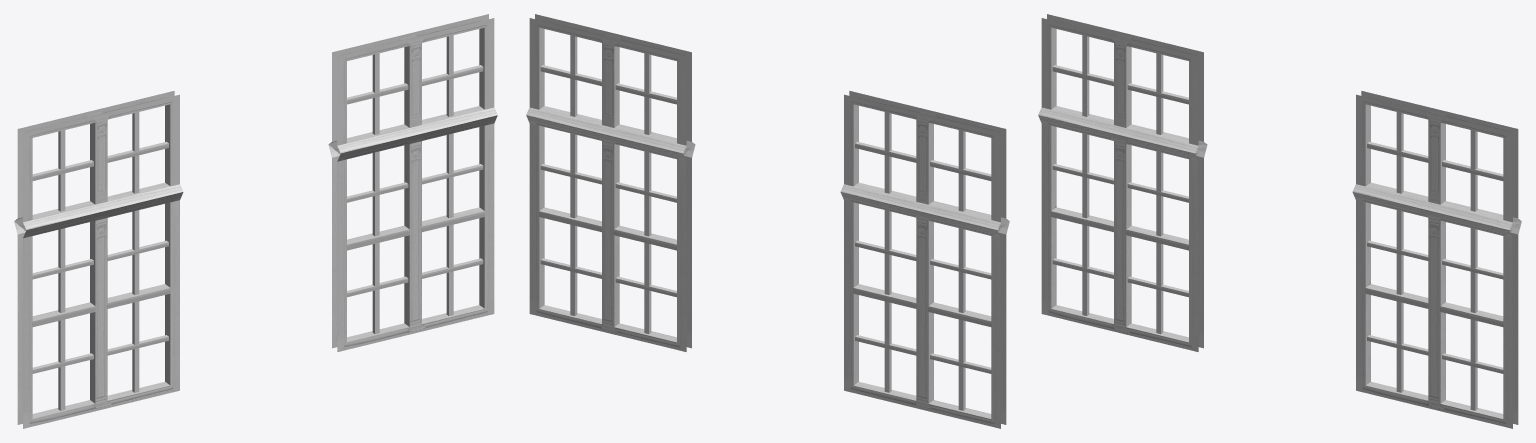
File: Window2B.fbx
3 renders of one model, left to right at view 1: azimuth 30°, elevation 25°; view 2: azimuth 150°, elevation 25°; view 3: azimuth 330°, elevation 25°, orthographic.
Parts seen in each view (by area): view 1: Window2B; view 2: Window2B; view 3: Window2B.
Part boxes in pixels (bbox=[...]): Window2B: bbox=[14, 14, 497, 428]; Window2B: bbox=[526, 14, 1009, 428]; Window2B: bbox=[1038, 14, 1521, 428].
Bounding box in the file's own units: 300 × 180 × 13.57.
